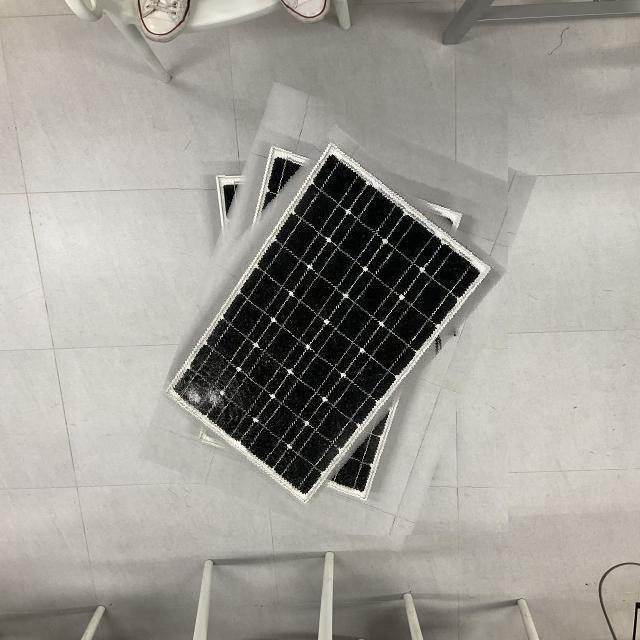Photovoltaic-Panel: (168, 99, 508, 535)
